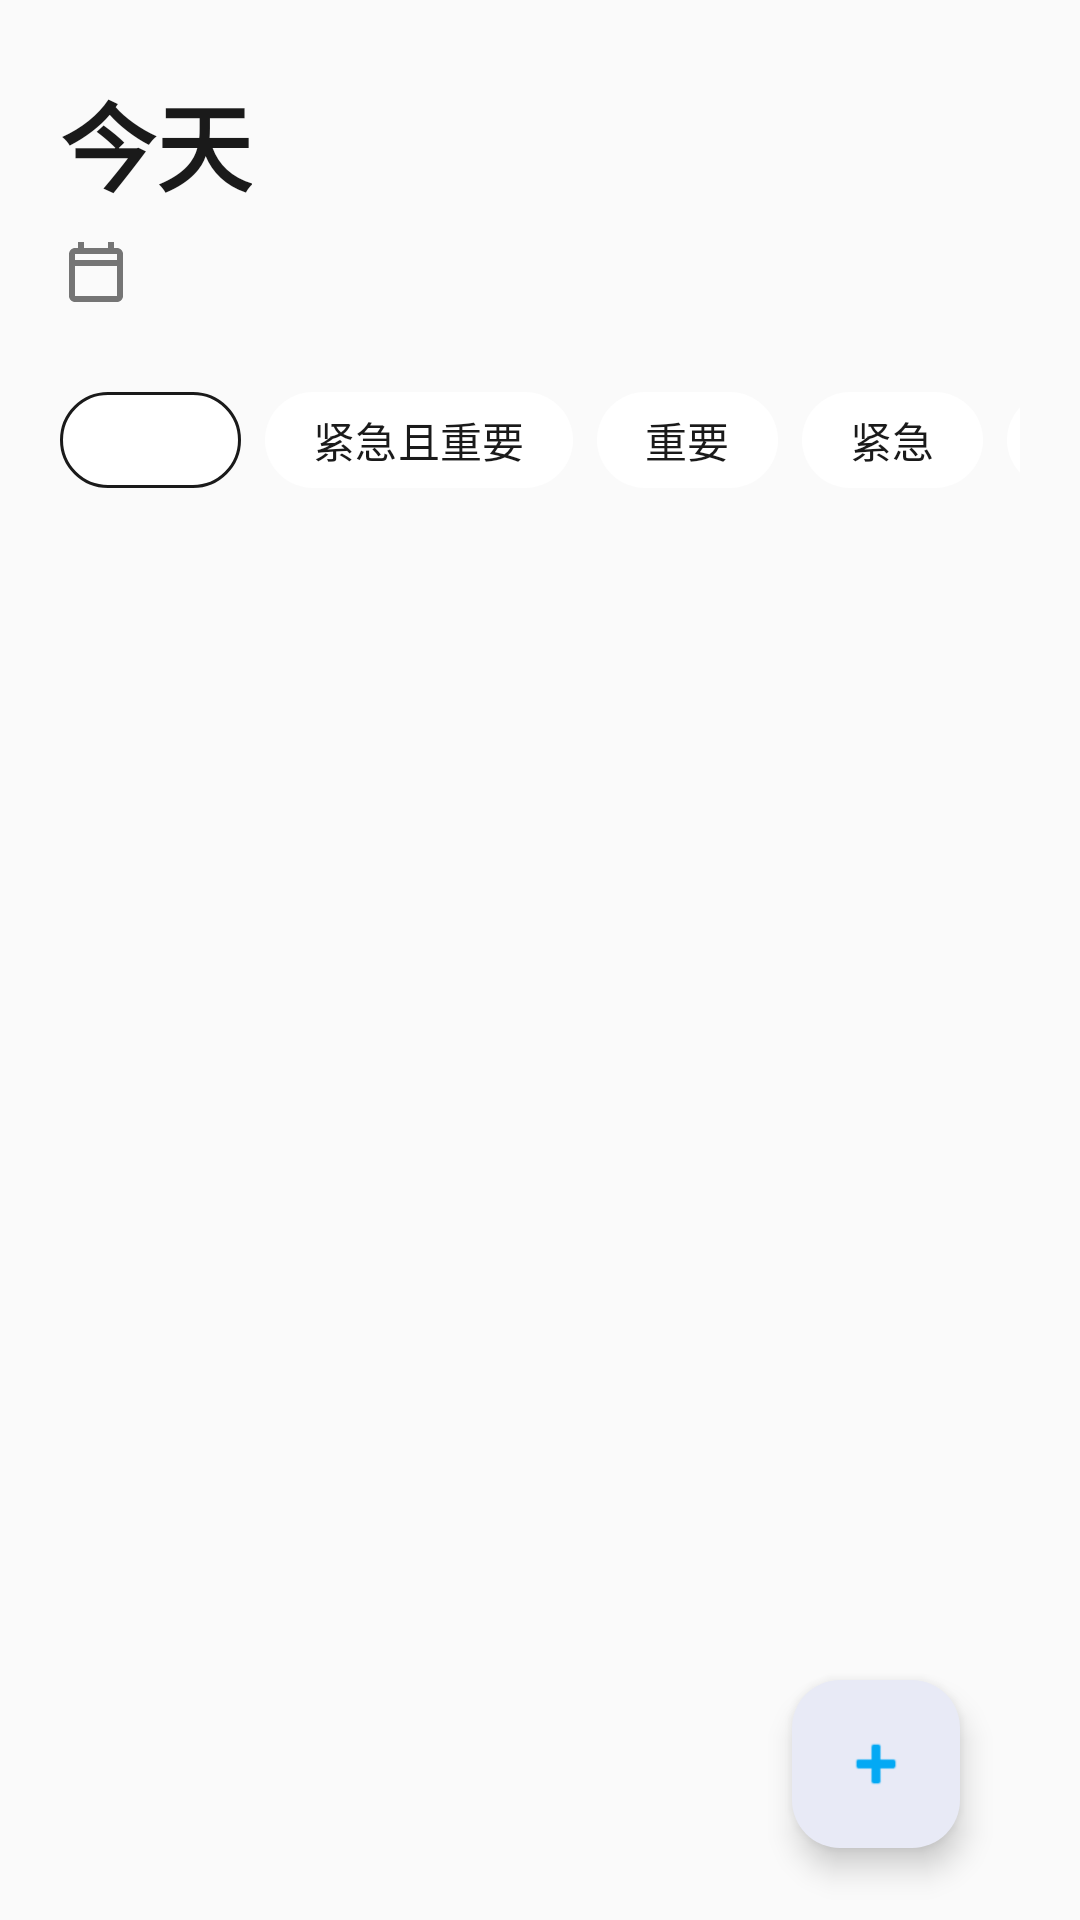

Named icons in this screenshot (1080×1920) and their centers, (x=x, y=y):
新增任务: (x=876, y=1764)
